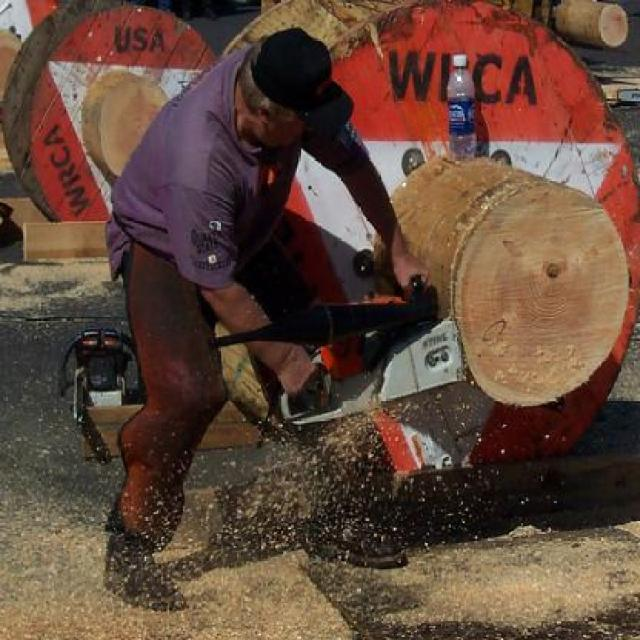Chainsaw: (276, 317, 467, 428)
